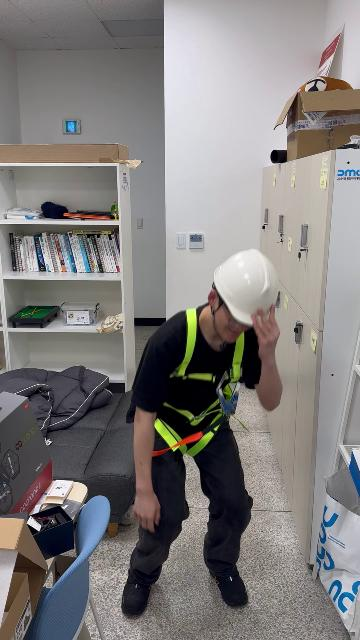helmet_worn: (212, 250, 279, 326)
shoe_worn: (208, 565, 247, 607), (121, 575, 152, 615)
vest_worn: (154, 317, 241, 453)
